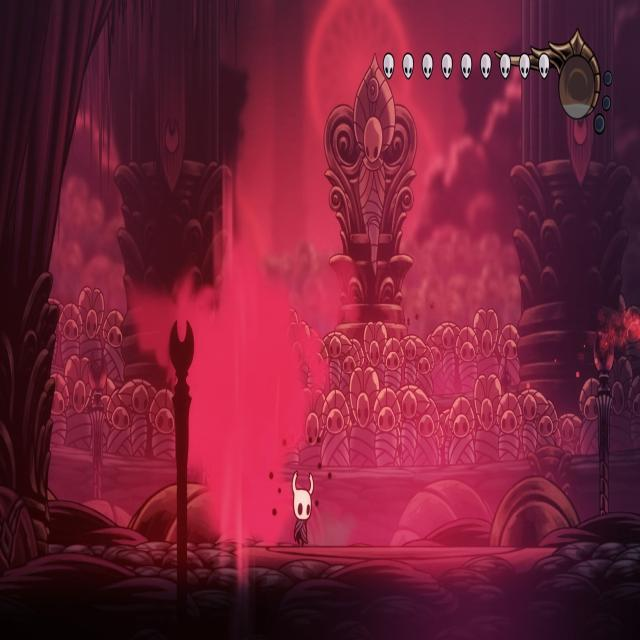Player: (290, 464, 316, 550)
